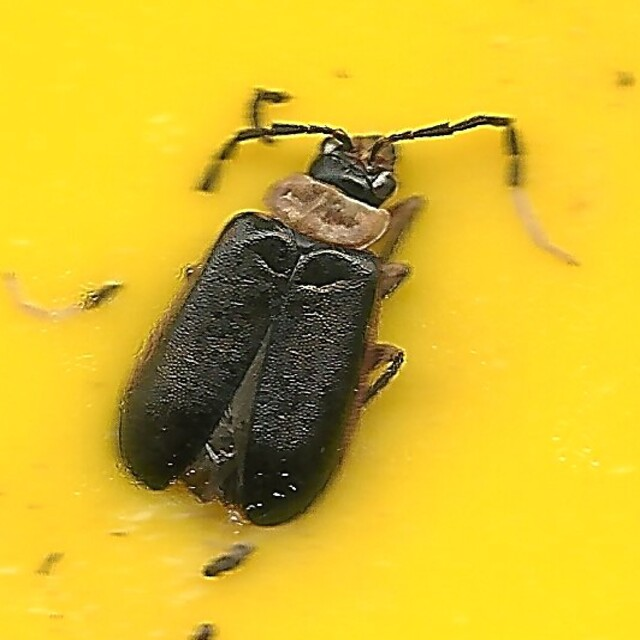Coleoptera: (120, 112, 520, 528)
